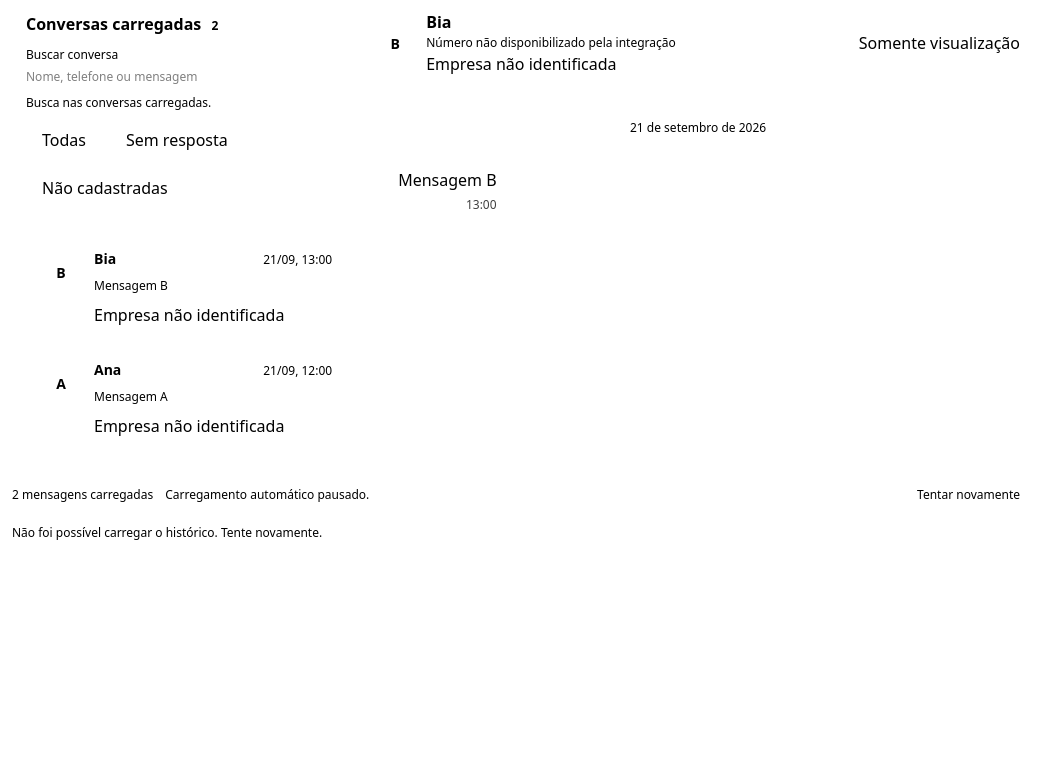
Test: falha automática pausa sem perder dados e tentativa manual retoma o restante
This screenshot has width=1048, height=768.
Check: the message "Não foi possível carregar o histórico. Tente novamente." is shown, box [12, 524, 322, 541]
Check: the list shows "Mensagem B", box [398, 169, 497, 191]
Step 1. Click the button "Tentar novamente" → point(969, 495), box [901, 478, 1036, 512]
Wait 500 ms
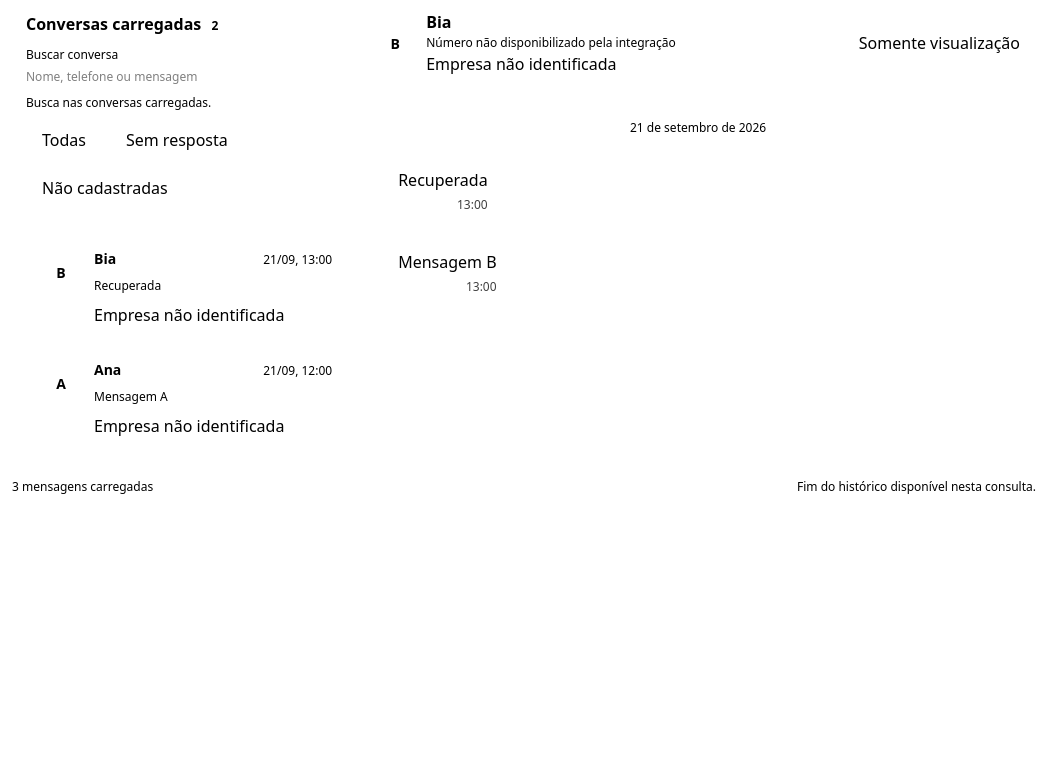
Check: the list shows "Recuperada", box [398, 169, 488, 191]
